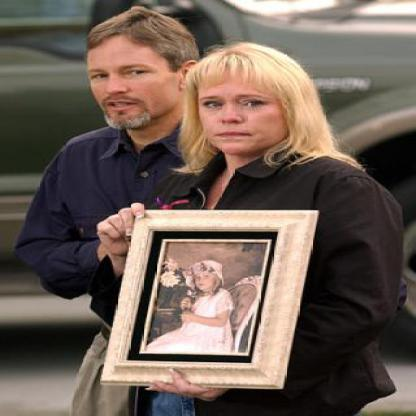face: (82, 17, 183, 133), (194, 52, 298, 159), (193, 267, 217, 291)
